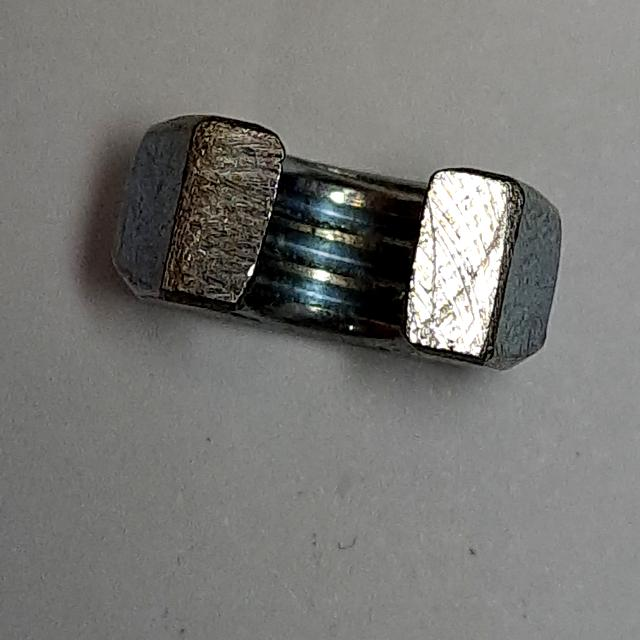Side-Fracture: (100, 96, 576, 399)
